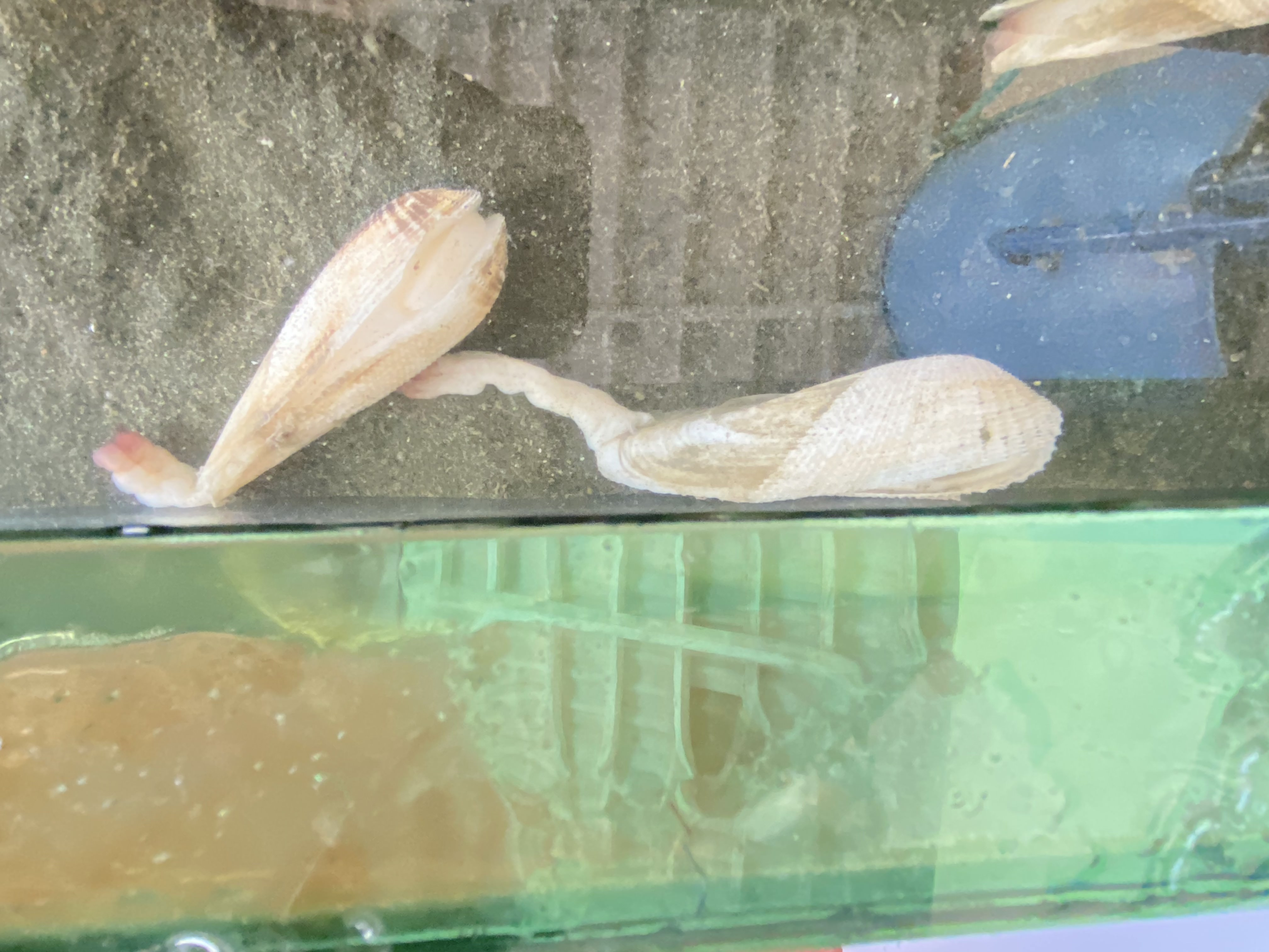At risk: (93, 189, 1062, 507), (982, 0, 1269, 71)
